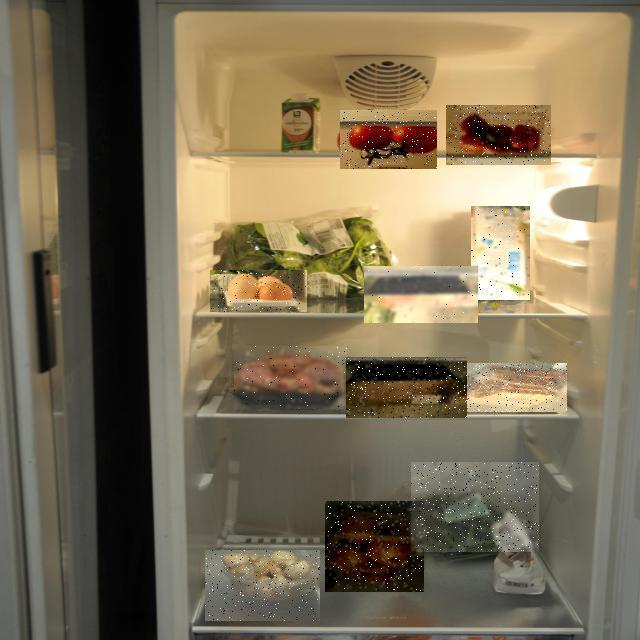Beans: (411, 462, 539, 552)
Bread: (467, 363, 567, 412)
Eggs: (210, 270, 307, 312)
Meat: (346, 357, 467, 418), (234, 346, 347, 409), (364, 266, 478, 323)
Milk: (471, 206, 530, 300)
Mushroom: (205, 550, 320, 621)
Onion: (325, 501, 424, 592)
Straw Berry: (446, 105, 551, 165)
Tomatoes: (340, 110, 437, 169)
